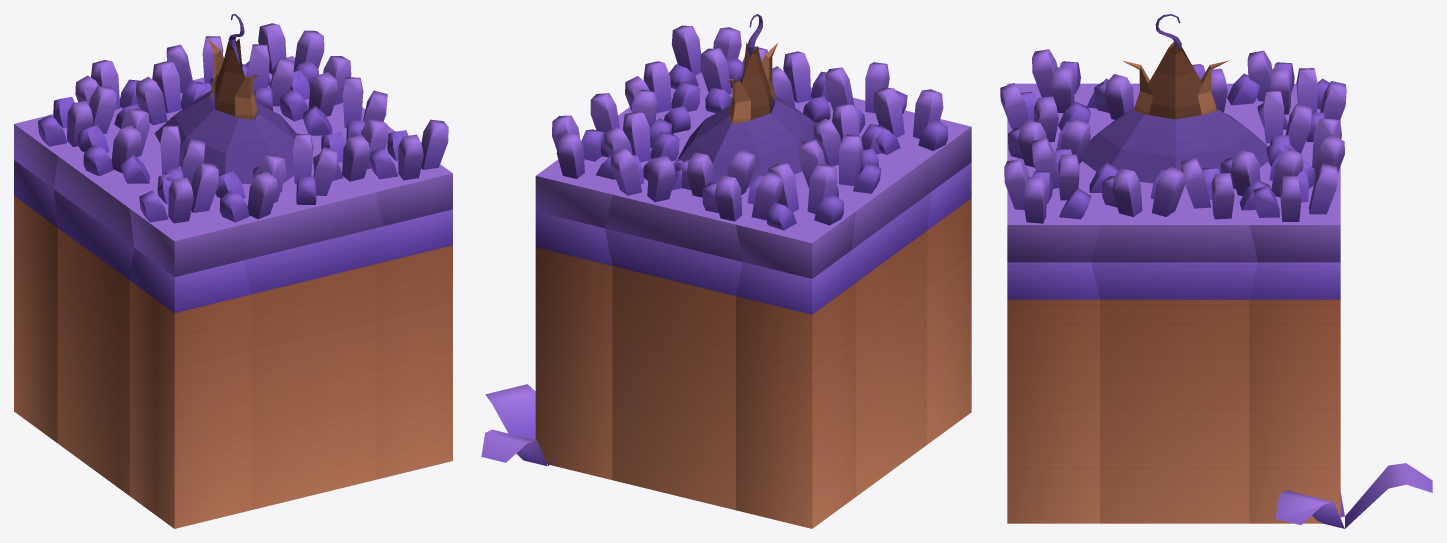
File: semente plantada.glb
The picture shows the model from 3 angles, left to right: view 1: azimuth 30°, elevation 25°; view 2: azimuth 150°, elevation 25°; view 3: azimuth 270°, elevation 25°; orthographic projection. The views are drawn at different scales.
Parts seen in each view (by area): view 1: block-grass, terra, grass.013, grass.018, grass, grass.011, grass.009, grass.015, grass.006, grass.016, grass.008, grass.010 (+7 smaller); view 2: block-grass, terra, plant, grass.018, grass.011, grass.010, grass.013, grass.020, grass.002, grass.009, grass.019, grass.017 (+8 smaller); view 3: block-grass, terra, plant, grass.017, semente frente, grass.013, grass.010, grass.015, grass, grass.008, grass.018, grass.012 (+8 smaller).
Boxes of the visible parts, <box> form: block-grass: <box>14,56,452,528</box>; terra: <box>154,90,296,183</box>; grass.013: <box>369,119,448,180</box>; grass.018: <box>139,162,218,223</box>; grass: <box>215,154,285,222</box>; grass.011: <box>38,86,116,146</box>; grass.009: <box>78,108,149,176</box>; grass.015: <box>280,56,351,121</box>; grass.006: <box>136,61,208,125</box>; grass.016: <box>120,125,205,185</box>; grass.008: <box>313,119,388,181</box>; grass.010: <box>303,77,387,142</box>; block-grass: <box>535,72,971,528</box>; terra: <box>678,94,815,187</box>; plant: <box>481,384,562,466</box>; grass.018: <box>869,88,947,154</box>; grass.011: <box>766,163,843,230</box>; grass.010: <box>625,61,700,133</box>; grass.013: <box>669,25,742,89</box>; grass.020: <box>702,172,782,221</box>; grass.002: <box>772,51,830,122</box>; grass.009: <box>799,134,881,197</box>; grass.019: <box>610,147,683,202</box>; grass.017: <box>552,115,615,179</box>; block-grass: <box>1007,83,1340,523</box>; terra: <box>1082,109,1268,184</box>; plant: <box>1275,463,1432,528</box>; grass.017: <box>1253,163,1337,221</box>; semente frente: <box>1148,45,1202,119</box>; grass.013: <box>1004,159,1091,223</box>; grass.010: <box>1102,166,1184,216</box>; grass.015: <box>1181,157,1270,219</box>; grass: <box>1000,83,1091,142</box>; grass.008: <box>1032,137,1119,200</box>; grass.018: <box>1032,49,1108,113</box>; grass.012: <box>1220,148,1303,197</box>.
Size of the model in its own units: 1.29 by 1.47 by 1.31.
Materials: 4 (4 with a texture image).
